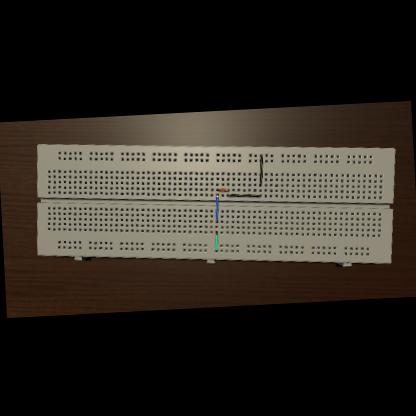breadboard: (30, 124, 400, 281)
wire: (226, 191, 260, 197), (257, 152, 263, 184), (214, 192, 218, 221), (212, 230, 216, 250), (215, 187, 227, 190)
